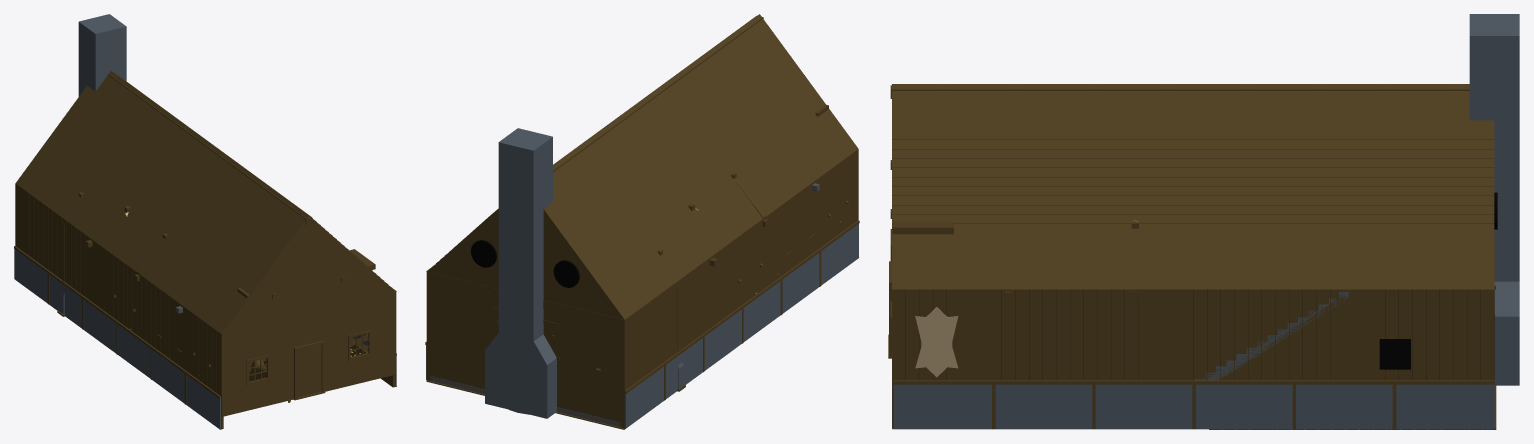
The model's file is Cabin_Blockout_04.fbx.
3 views of the same model, side by side, from view 1: azimuth 30°, elevation 25°; view 2: azimuth 150°, elevation 25°; view 3: azimuth 270°, elevation 25° (orthographic). The views are drawn at different scales.
Visible parts, largest first — view 1: polySurface865; view 2: polySurface865; view 3: polySurface865.
Boxes of the visible parts, x1,y1,x2,y2 form: polySurface865: [14, 14, 396, 429]; polySurface865: [425, 14, 859, 429]; polySurface865: [888, 14, 1519, 429].
Bounding box in the file's own units: 889 × 1111 × 1844.
